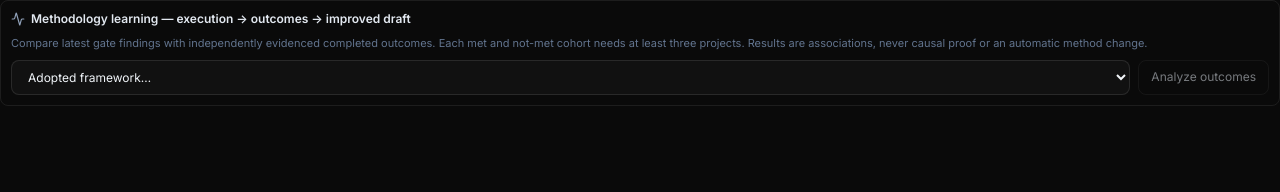
MethodologyLearningPanel › renders thin-history refusals without implying a relationship
Select "Capital Delivery v2" in the dropdown named "Adopted framework to analyze" at (571, 77), box [11, 60, 1130, 94]
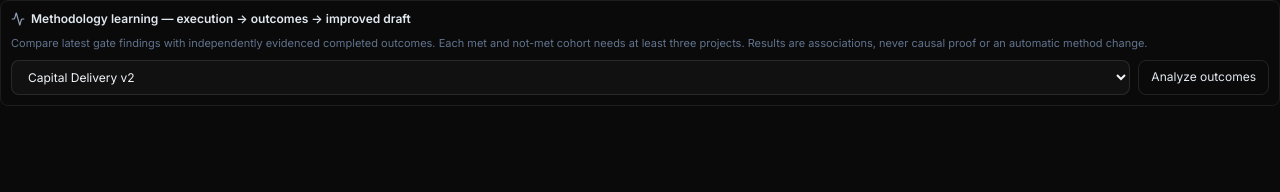
Click the button "Analyze outcomes".
click(1204, 77)  # box [1138, 60, 1269, 94]
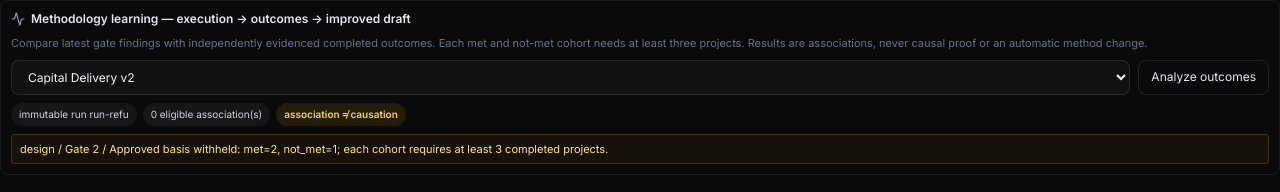
Check: the text "withheld: met=2" is shown, box [20, 142, 608, 156]
Check: the text "association ≠ causation" is shown, box [276, 102, 406, 126]
